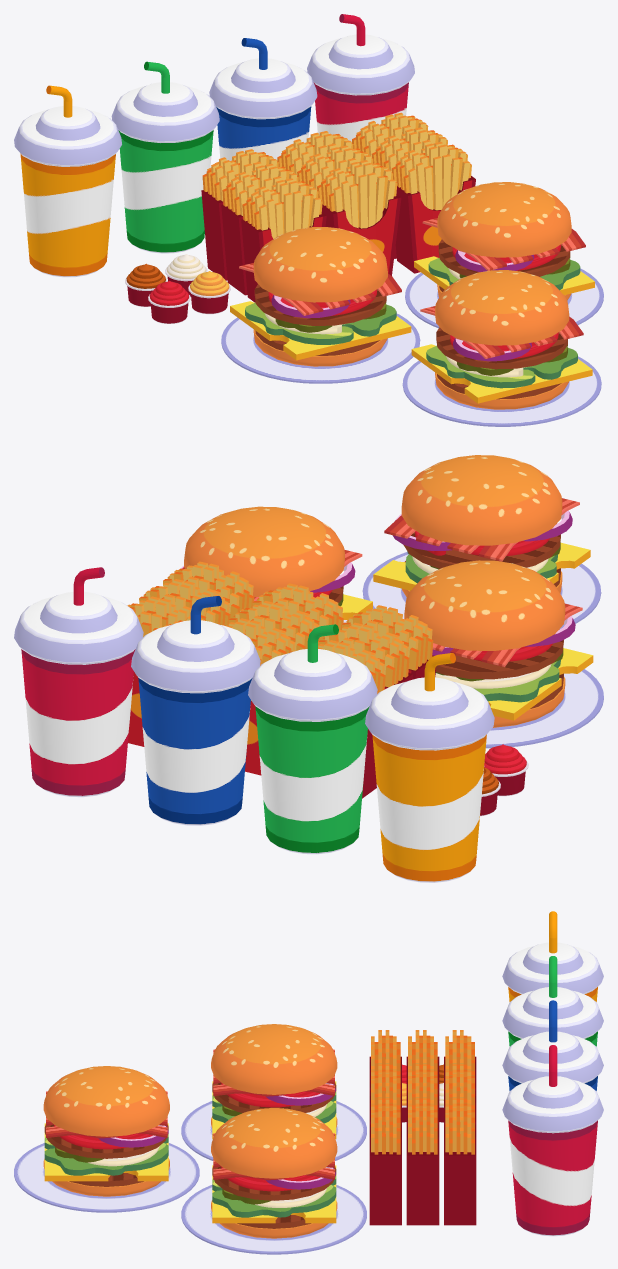
File: burger_meal.glb
The picture shows the model from 3 angles, top to bottom: view 1: azimuth 30°, elevation 25°; view 2: azimuth 150°, elevation 25°; view 3: azimuth 270°, elevation 25°; orthographic projection. The views are drawn at different scales.
Visible parts, largest first — view 1: Bun_Slice_Top (×3), Fizz_Cup1, Fizz_Cup, Food_Plate (×3), Pep_Cup, Cola_Cup, Fries_Box_7, Fries_Box_4, Cheese_Slice2 (×3), Lettuce_Slice2 (×3), Fries_Box_1, Patty_Slice3 (×3) (+13 smaller); view 2: Bun_Slice_Top (×3), Fizz_Cup1, Pep_Cup, Fizz_Cup, Cola_Cup, Food_Plate (×2), Patty_Slice3 (×2), Cheese_Slice2 (×2), Fries_Box_1, Fries_Box_2, Bacon_Slice2 (×2), Fries_Box_6 (+13 smaller); view 3: Bun_Slice_Top (×3), Cola_Cup, Food_Plate (×3), Pep_Cup, Fizz_Cup1, Fizz_Cup, Fries_Box_8, Fries_Box_9, Fries_Box_7, Lettuce_Slice2 (×3), Patty_Slice3 (×3), Cheese_Slice2 (×2) (+12 smaller).
Boxes of the visible parts, bbox=[...] form: Bun_Slice_Top (×3): bbox=[253, 182, 571, 345]; Fizz_Cup1: bbox=[14, 85, 121, 277]; Fizz_Cup: bbox=[111, 61, 219, 253]; Food_Plate (×3): bbox=[221, 268, 603, 426]; Pep_Cup: bbox=[209, 38, 317, 160]; Cola_Cup: bbox=[307, 14, 414, 141]; Fries_Box_7: bbox=[391, 142, 475, 273]; Fries_Box_4: bbox=[317, 160, 401, 275]; Cheese_Slice2 (×3): bbox=[230, 256, 594, 403]; Lettuce_Slice2 (×3): bbox=[245, 258, 580, 388]; Fries_Box_1: bbox=[241, 178, 326, 302]; Patty_Slice3 (×3): bbox=[254, 239, 570, 369]; Bun_Slice_Top (×3): bbox=[184, 455, 565, 650]; Fizz_Cup1: bbox=[365, 653, 494, 882]; Pep_Cup: bbox=[131, 596, 260, 825]; Fizz_Cup: bbox=[248, 624, 377, 854]; Cola_Cup: bbox=[14, 567, 143, 797]; Food_Plate (×2): bbox=[362, 552, 603, 748]; Patty_Slice3 (×2): bbox=[403, 532, 563, 679]; Cheese_Slice2 (×2): bbox=[373, 542, 593, 720]; Fries_Box_1: bbox=[342, 605, 435, 679]; Fries_Box_2: bbox=[318, 622, 412, 688]; Bacon_Slice2 (×2): bbox=[384, 498, 582, 667]; Fries_Box_6: bbox=[224, 618, 295, 775]; Bun_Slice_Top (×3): bbox=[43, 1024, 337, 1178]; Cola_Cup: bbox=[502, 1045, 603, 1236]; Food_Plate (×3): bbox=[14, 1101, 366, 1254]; Pep_Cup: bbox=[502, 1000, 603, 1090]; Fizz_Cup1: bbox=[502, 911, 603, 1001]; Fizz_Cup: bbox=[502, 956, 603, 1046]; Fries_Box_8: bbox=[406, 1098, 439, 1225]; Fries_Box_9: bbox=[444, 1098, 476, 1225]; Fries_Box_7: bbox=[369, 1098, 401, 1225]; Lettuce_Slice2 (×3): bbox=[44, 1092, 336, 1217]; Patty_Slice3 (×3): bbox=[44, 1082, 336, 1200]; Cheese_Slice2 (×2): bbox=[44, 1123, 336, 1223].
Size of the model in its own units: 0.732 by 0.3009 by 0.9517.
Materials: 20 (20 with a texture image).
